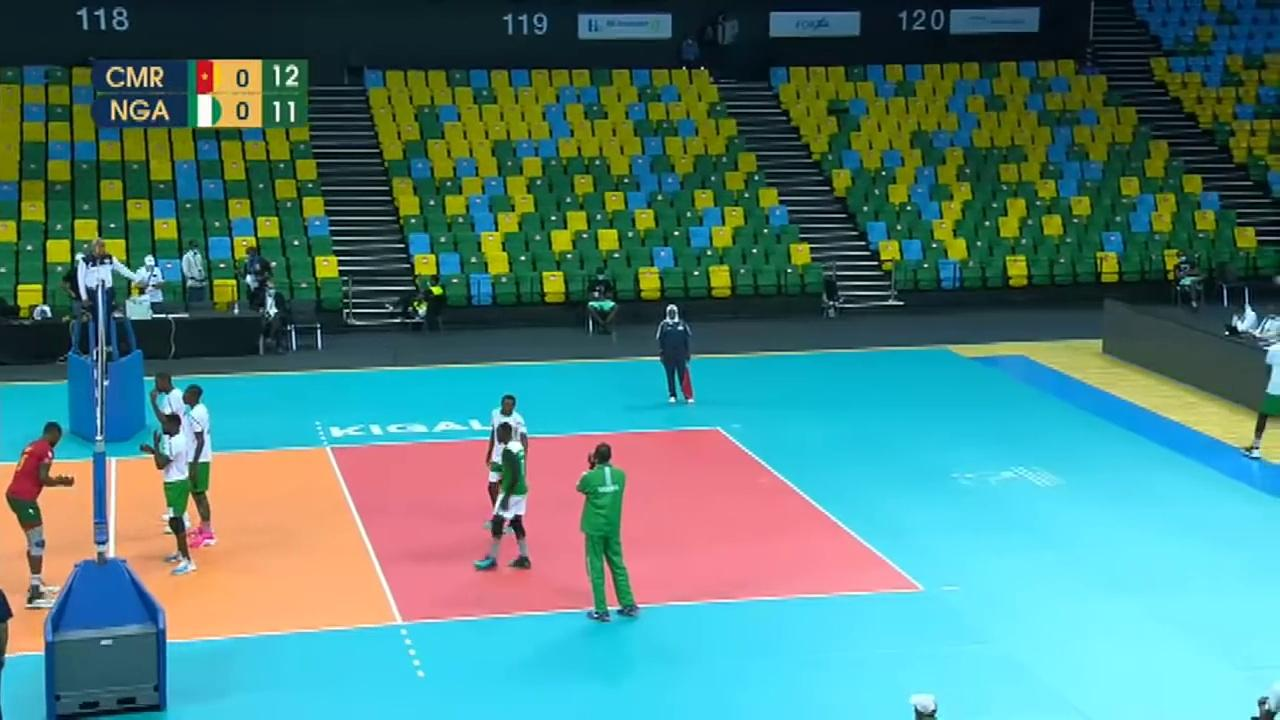player: (8, 422, 75, 603), (149, 416, 204, 578), (477, 422, 532, 572), (149, 366, 195, 532), (484, 391, 531, 533), (179, 381, 216, 546)
refree: (76, 233, 132, 349), (653, 303, 692, 404)
